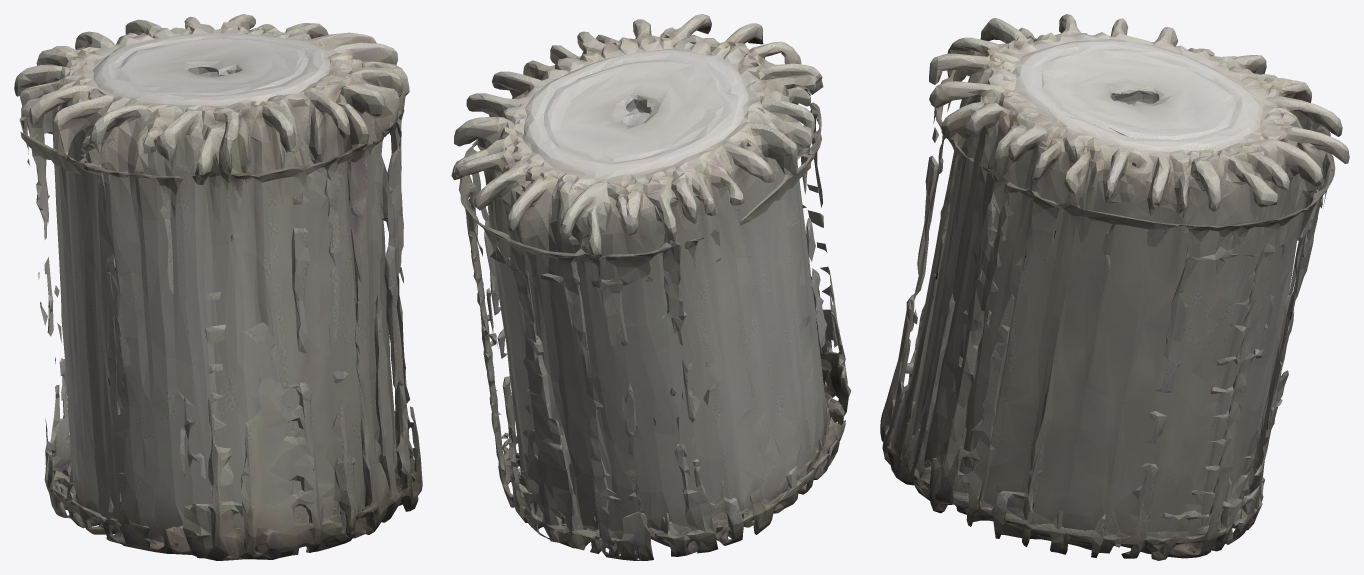
Rendered from grey_woven_basket_000.glb.
3 views of the same model, side by side, from view 1: azimuth 30°, elevation 25°; view 2: azimuth 150°, elevation 25°; view 3: azimuth 270°, elevation 25° (orthographic). The views are drawn at different scales.
Visible parts, largest first — view 1: grey_woven_basket_000.obj; view 2: grey_woven_basket_000.obj; view 3: grey_woven_basket_000.obj.
Part boxes in pixels (<box>): grey_woven_basket_000.obj: <box>14,14,422,560</box>; grey_woven_basket_000.obj: <box>451,14,851,560</box>; grey_woven_basket_000.obj: <box>880,14,1349,560</box>.
Bounding box in the file's own units: 0.2061 × 0.2696 × 0.2551.
Materials: 1 (1 with a texture image).
